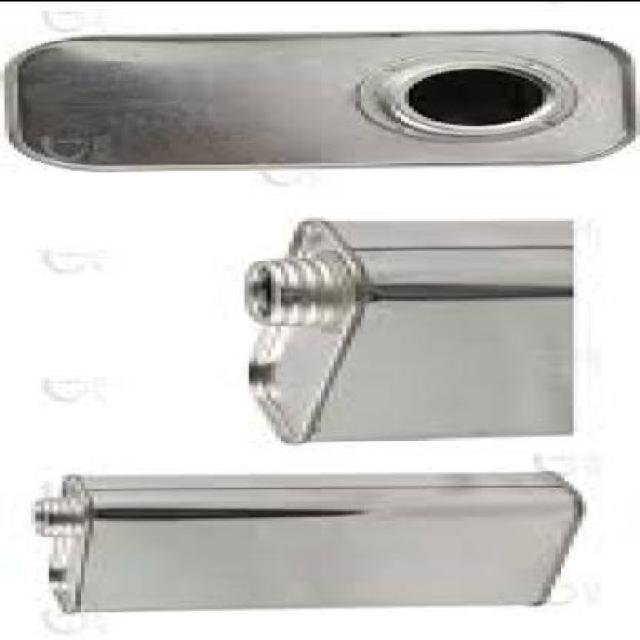METAL: (4, 32, 636, 170), (31, 471, 582, 612), (241, 221, 573, 445)
